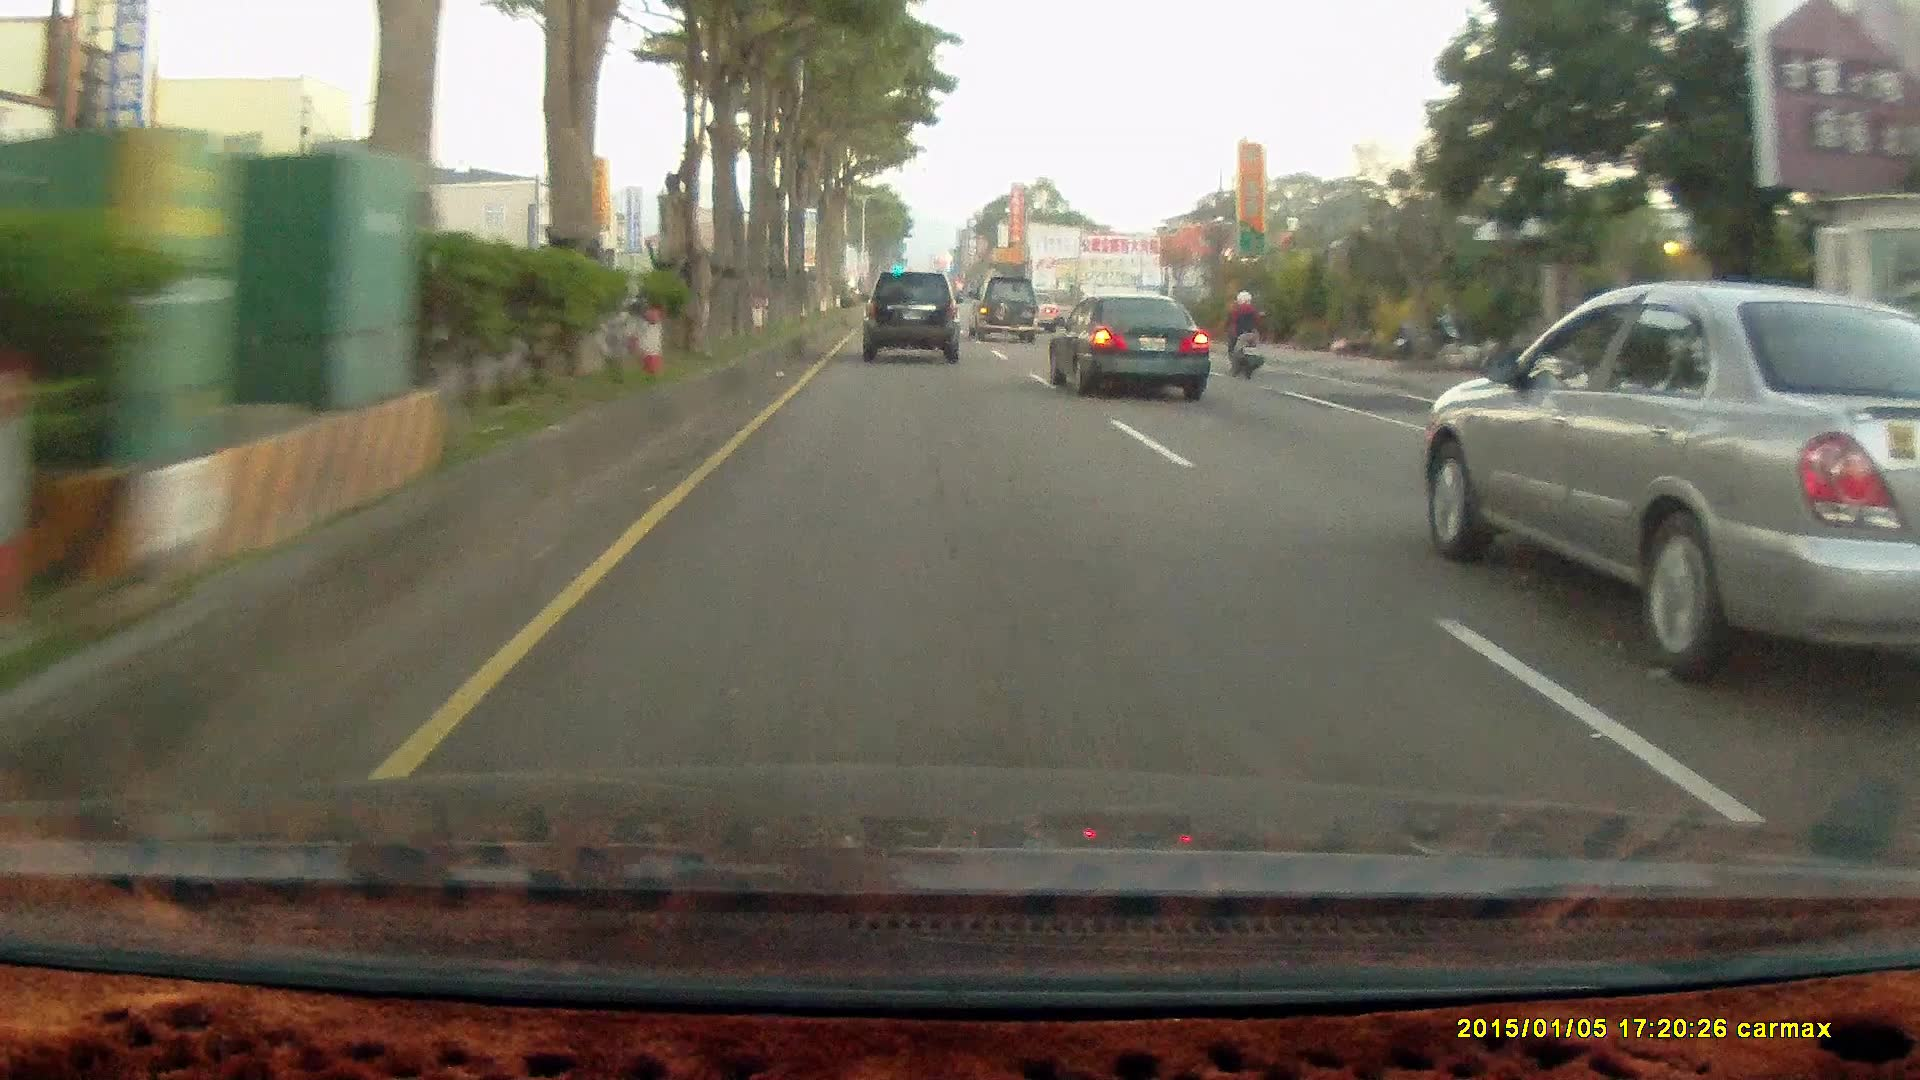rider: (1213, 282, 1273, 387), (1217, 286, 1266, 379)
vehicle: (1421, 294, 1917, 697), (1050, 296, 1216, 406), (1046, 292, 1210, 399), (862, 266, 965, 365), (858, 272, 958, 365), (967, 278, 1043, 345), (967, 277, 1042, 344)
